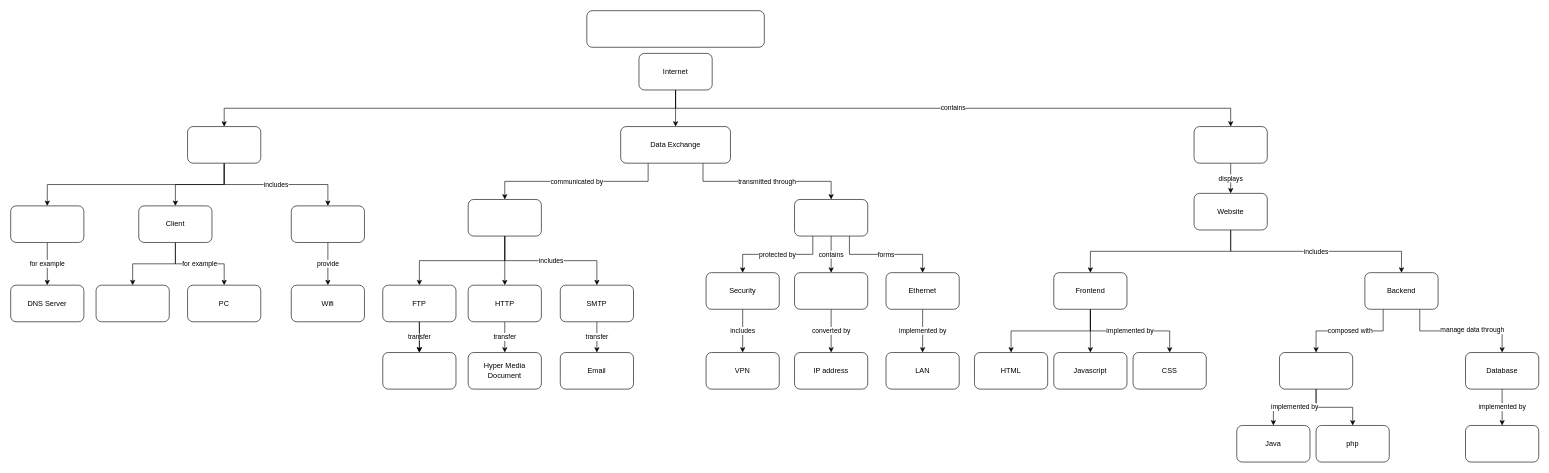
The diagram is 1549 pixels wide and 473 high, and some of its shapes have lost their labels. The shapes that lost their labels are listed below. From the top down, each one's centre as x and y in pixels, then its label:
point 675,28: Focus Question: What does internet contain?
point 224,144: Hardware
point 1230,144: Browser
point 47,223: Server
point 327,223: Router
point 504,217: Protocol
point 831,217: Network
point 132,303: Mobile
point 831,290: Domain
point 419,370: File
point 1316,370: Intermedium
point 1502,443: SQL
